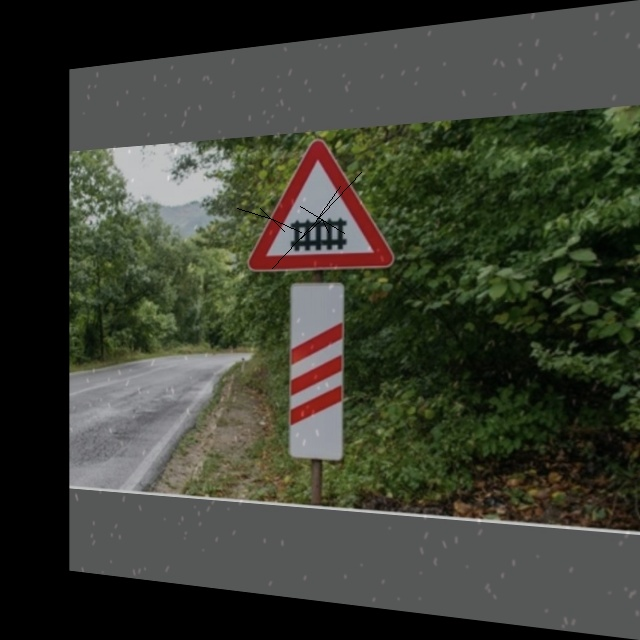Guarded_Level_Crossing: (249, 134, 396, 270)
